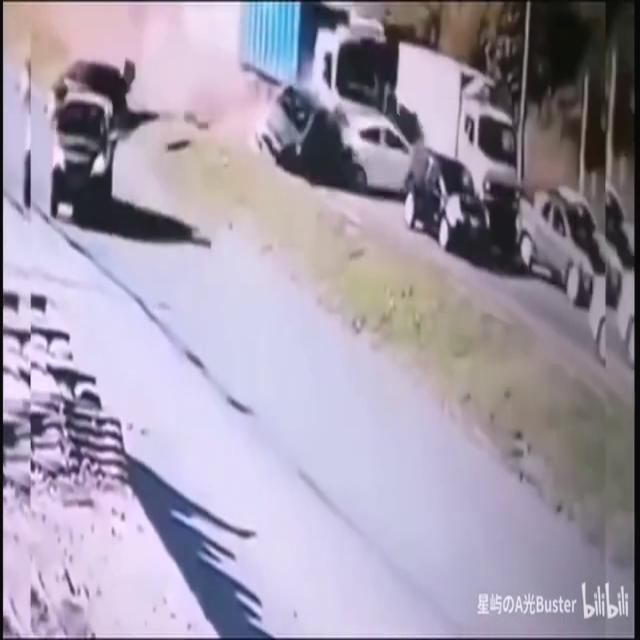accident: (255, 86, 428, 196), (47, 54, 136, 226)
non-accident: (404, 144, 606, 308), (401, 42, 521, 255)
